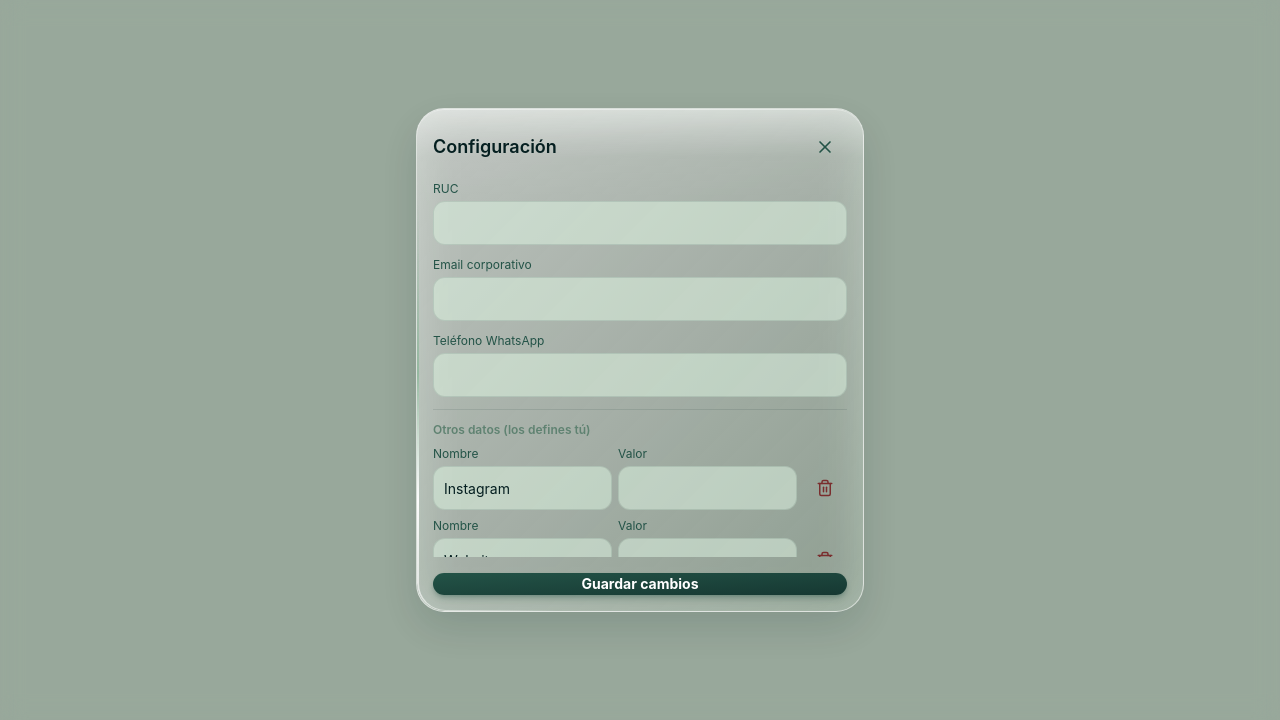
Test: SettingsPanel › blocks saving and shows an error for an invalid RUC
Type "20123456789" into the field labelled "RUC" at (640, 223), box left=433, top=201, right=847, bottom=245
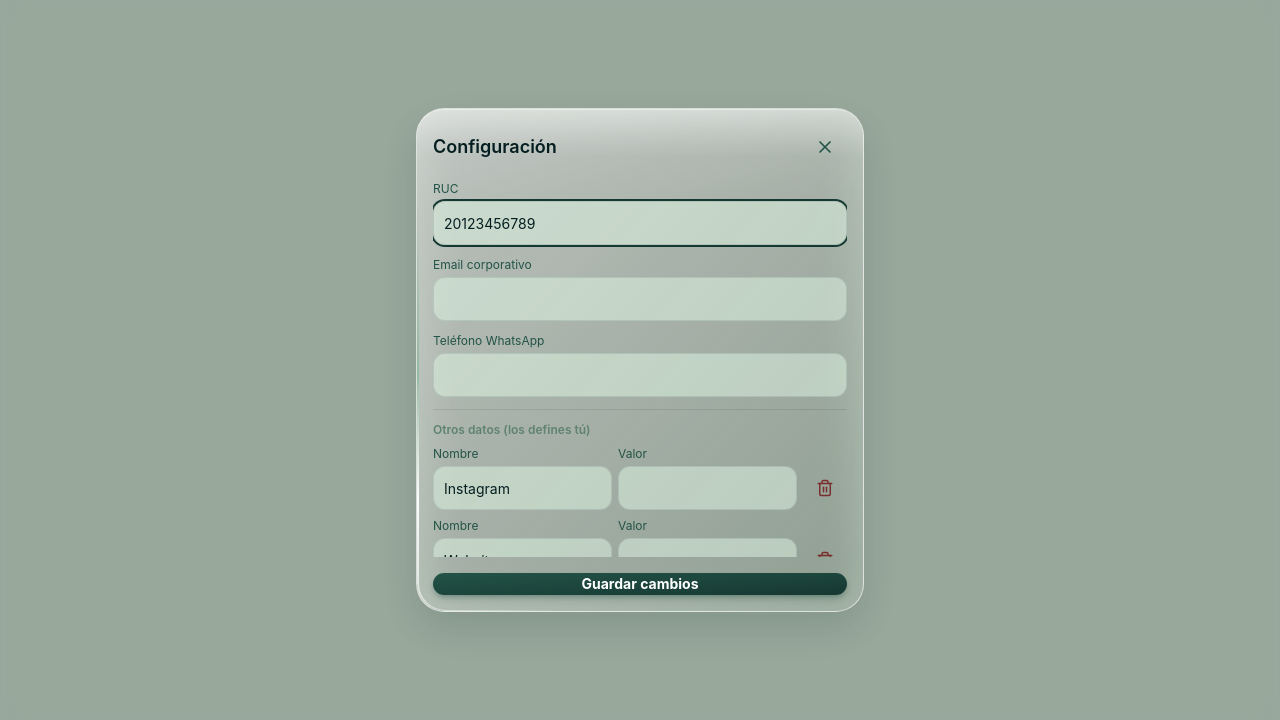
Click the button "Guardar cambios" at (640, 584), box left=433, top=573, right=847, bottom=595
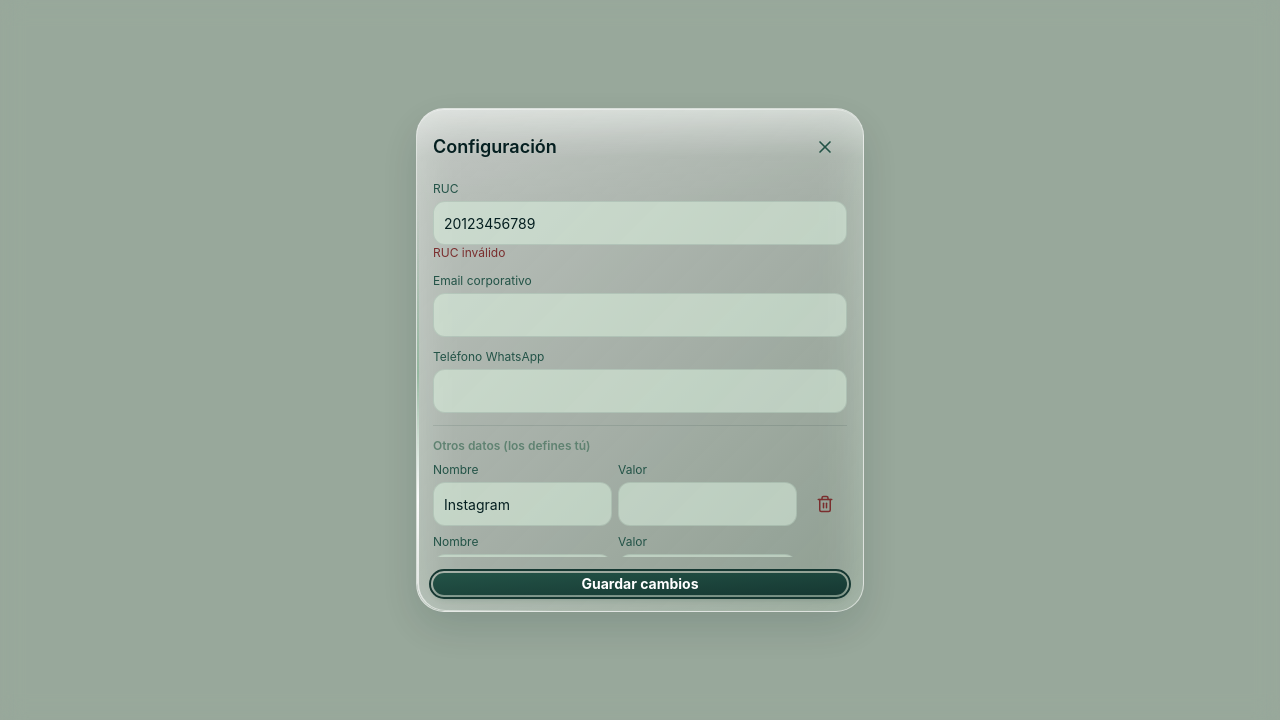
Now the text "RUC inválido" is shown, box left=433, top=245, right=505, bottom=260
